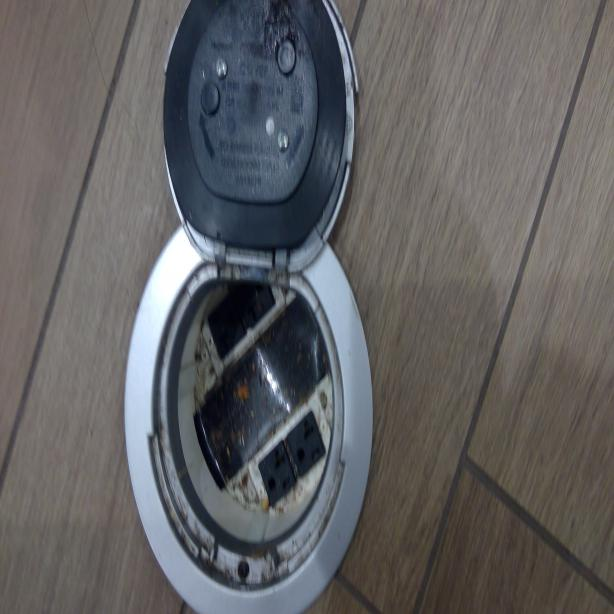typeb: (261, 446, 293, 496), (292, 419, 322, 468), (211, 307, 241, 350)
